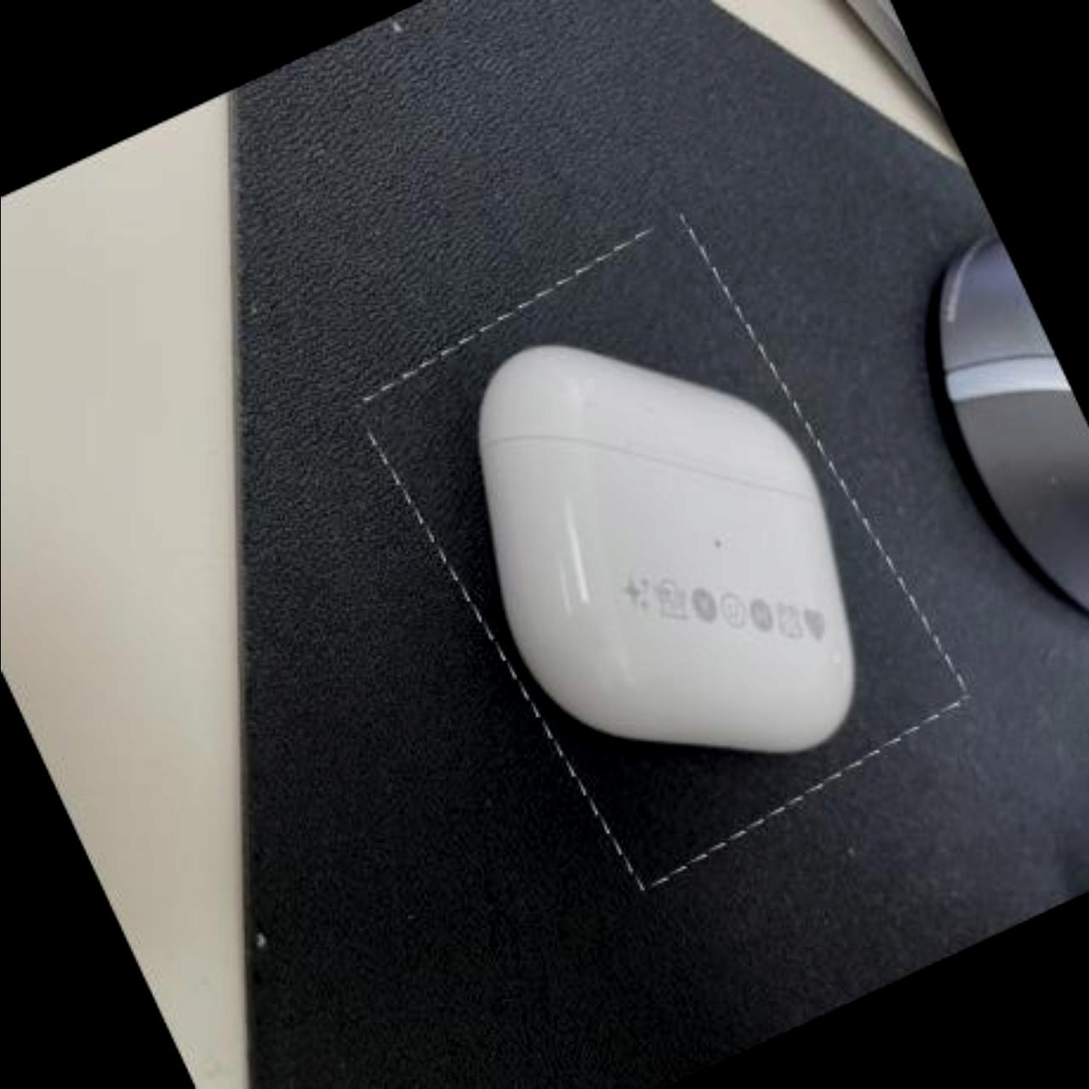AirPods: (356, 202, 969, 899)
